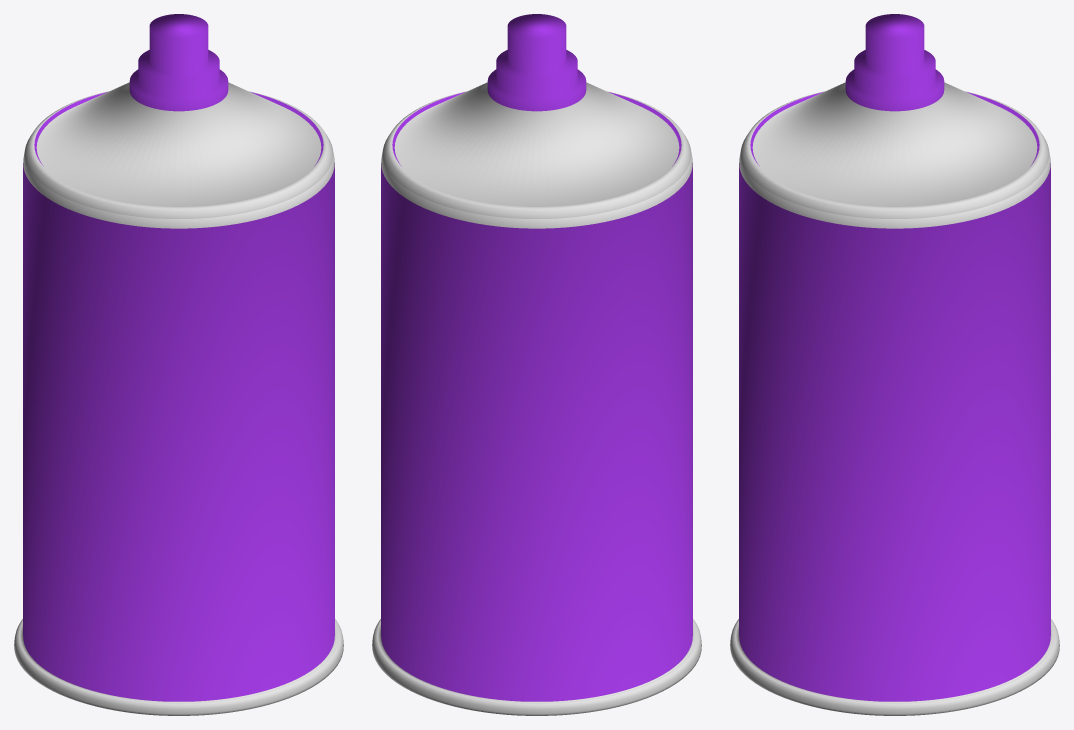
File: SpraySmooth.fbx
The picture shows the model from 3 angles, left to right: view 1: azimuth 30°, elevation 25°; view 2: azimuth 150°, elevation 25°; view 3: azimuth 270°, elevation 25°; orthographic projection.
Visible parts, largest first — view 1: Spray; view 2: Spray; view 3: Spray.
Part boxes in pixels (box(x1,y1,x2,y2)): Spray: box(14, 14, 343, 715); Spray: box(372, 14, 701, 715); Spray: box(730, 14, 1059, 715).
Bounding box in the file's own units: 211 × 439 × 212.
